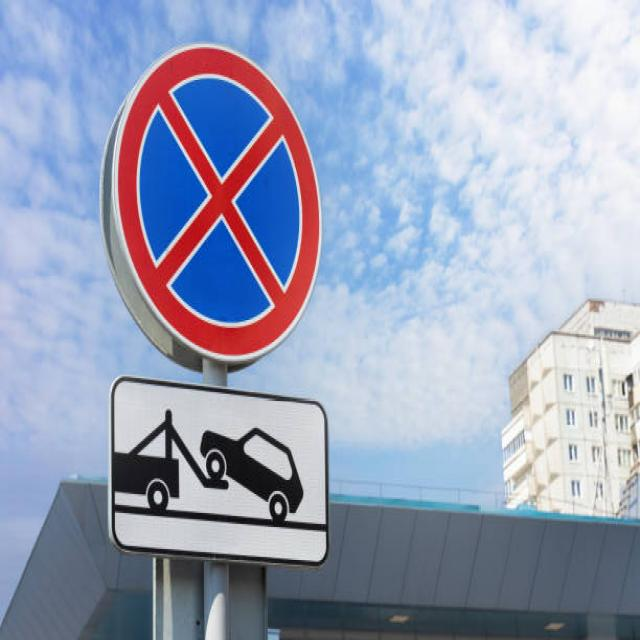no_parking: (110, 43, 322, 367)
